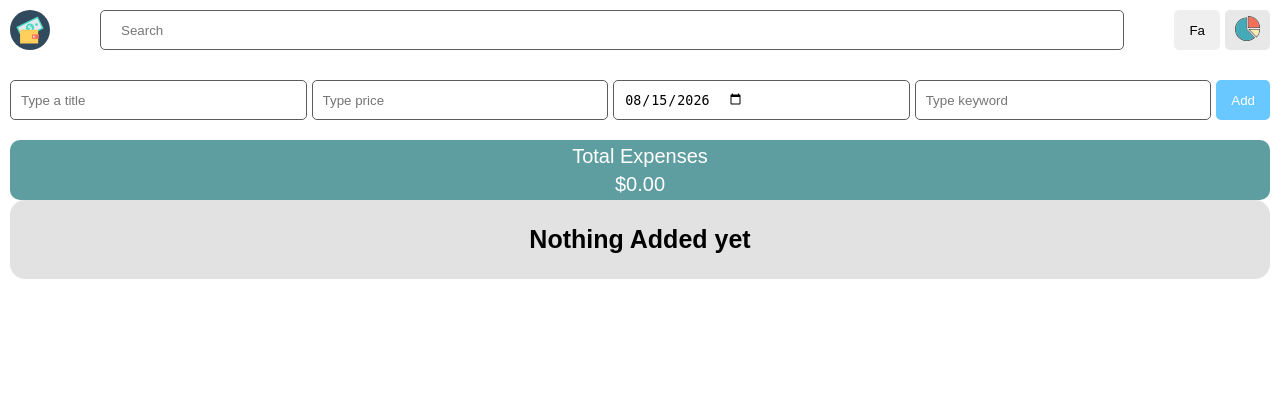
Test: Testing HomePage component › deletes an item from the list
The width and height of the screenshot is (1280, 397).
Type "Coffee" into the field with test id "input-text" at (158, 100), box [10,80,307,120]
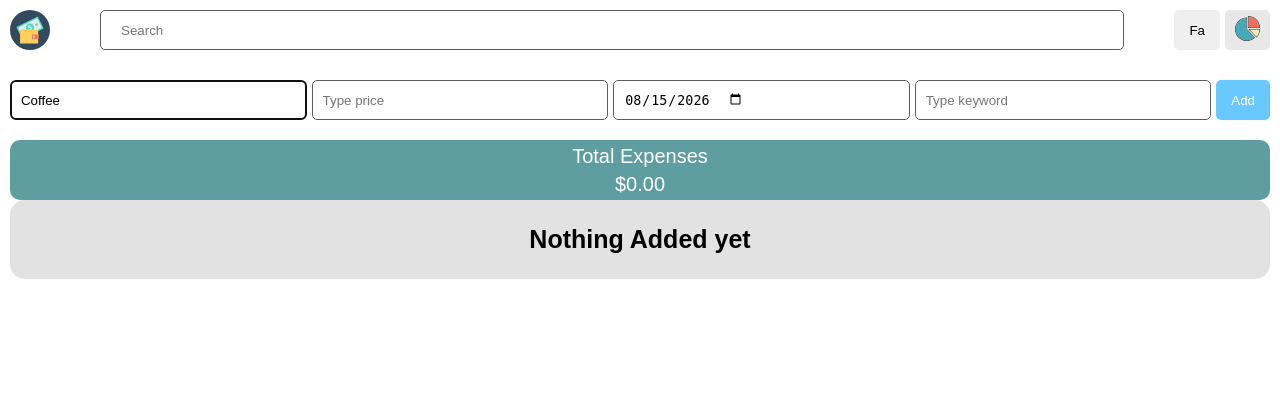
Type "12.45" into the field with test id "input-price" at (460, 100), box [312,80,608,120]
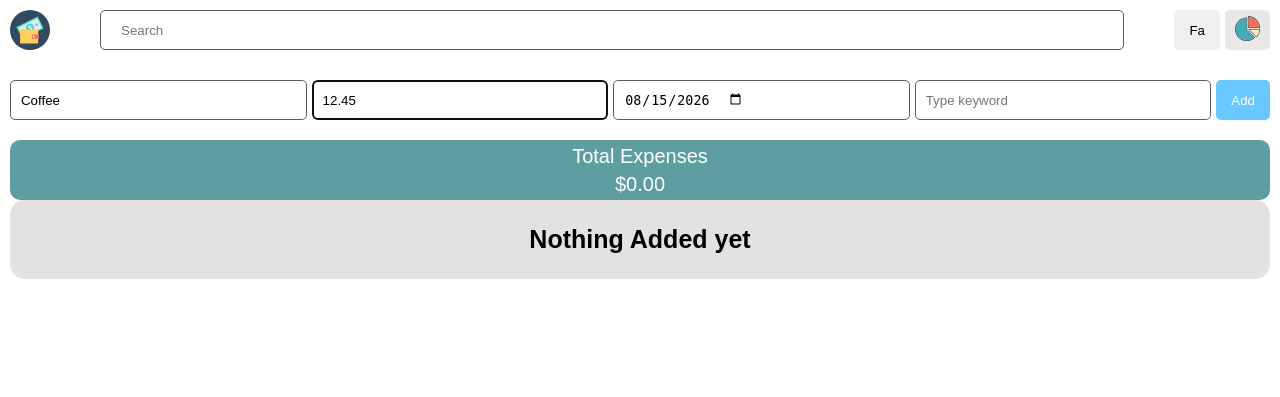
Type "2026-12-09" into the date field with test id "input-date" at (761, 100), box [613,80,910,120]
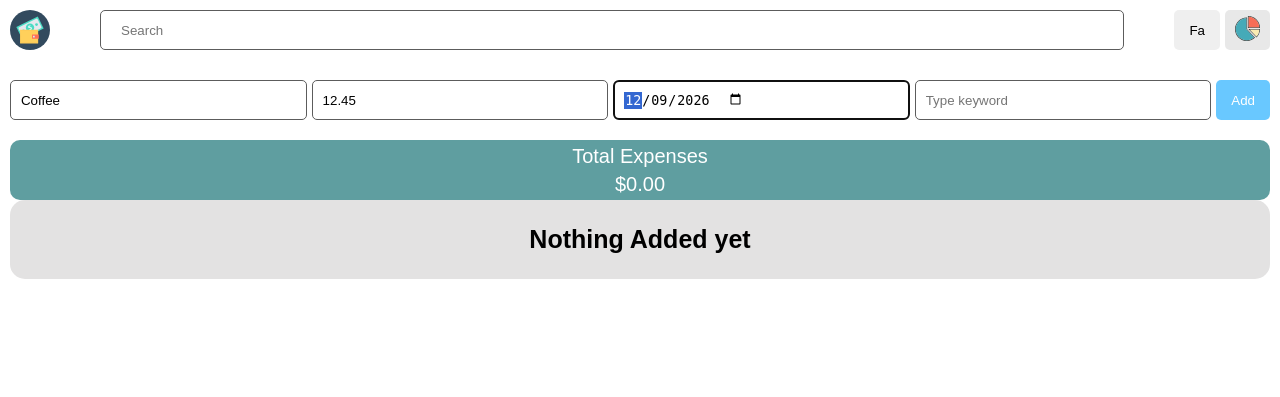
Type "drink" into the field with test id "input-keyword" at (1063, 100), box [915,80,1211,120]
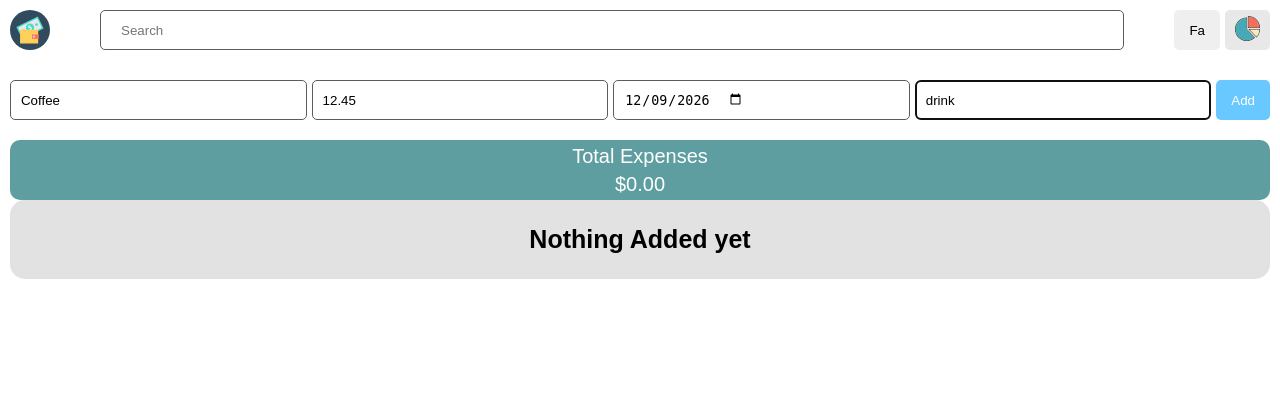
Click the button with test id "btn-add" at (1243, 100), box [1216,80,1270,120]
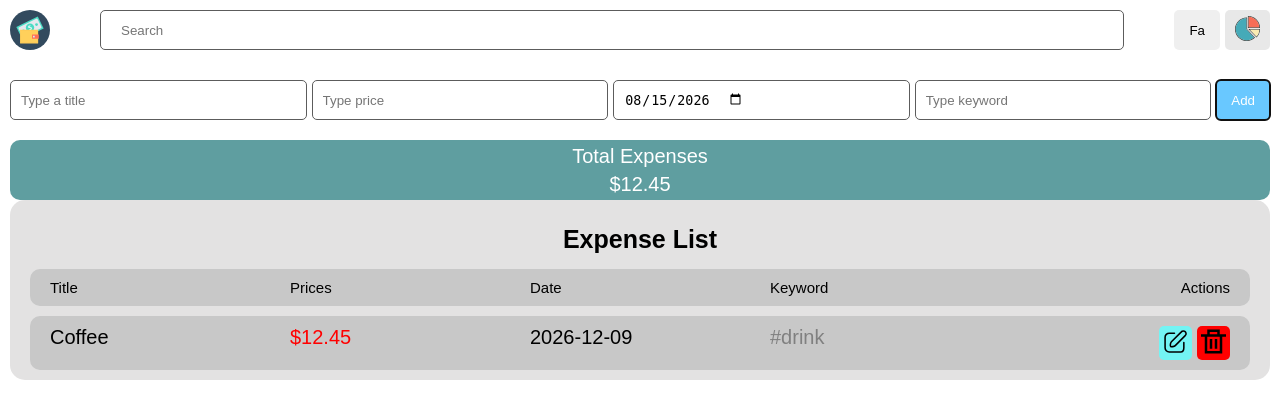
Click the button with test id "btn-delete" at (1214, 343), box [1197,326,1230,360]
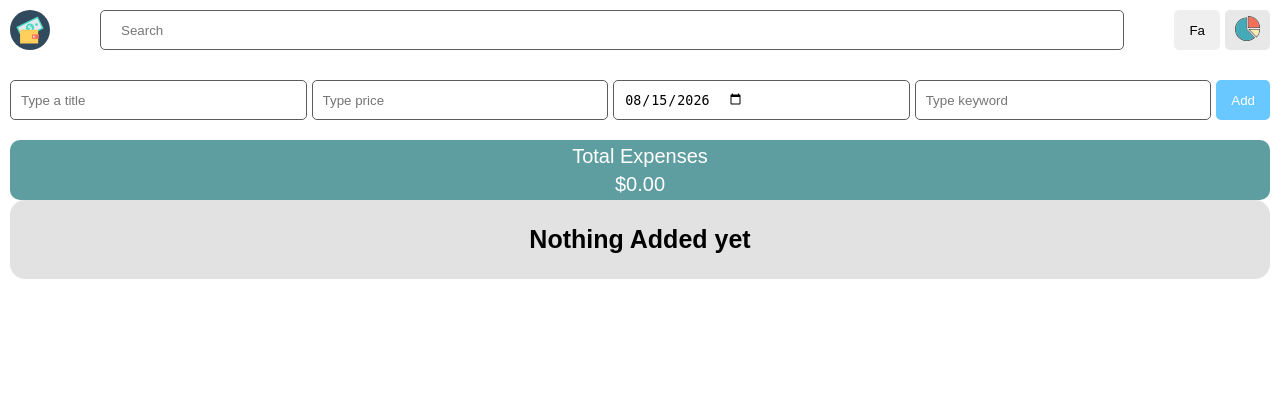
Now the text "Nothing Added yet" is shown, box [529,225,751,253]
